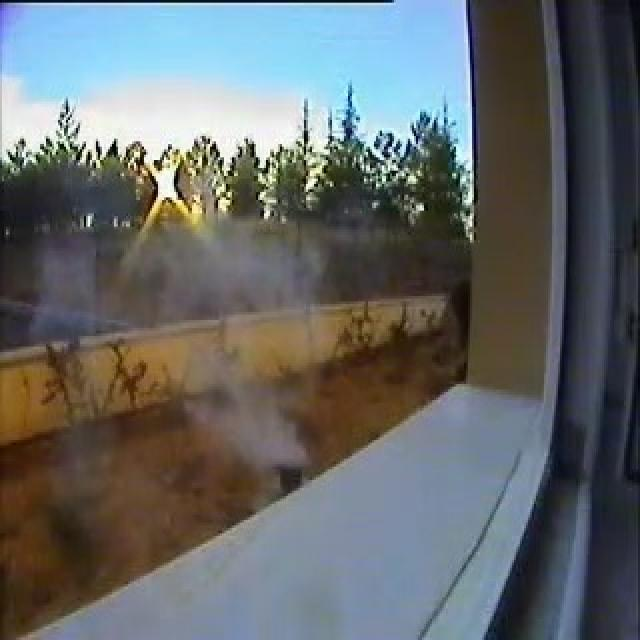smoke: (188, 370, 300, 470)
